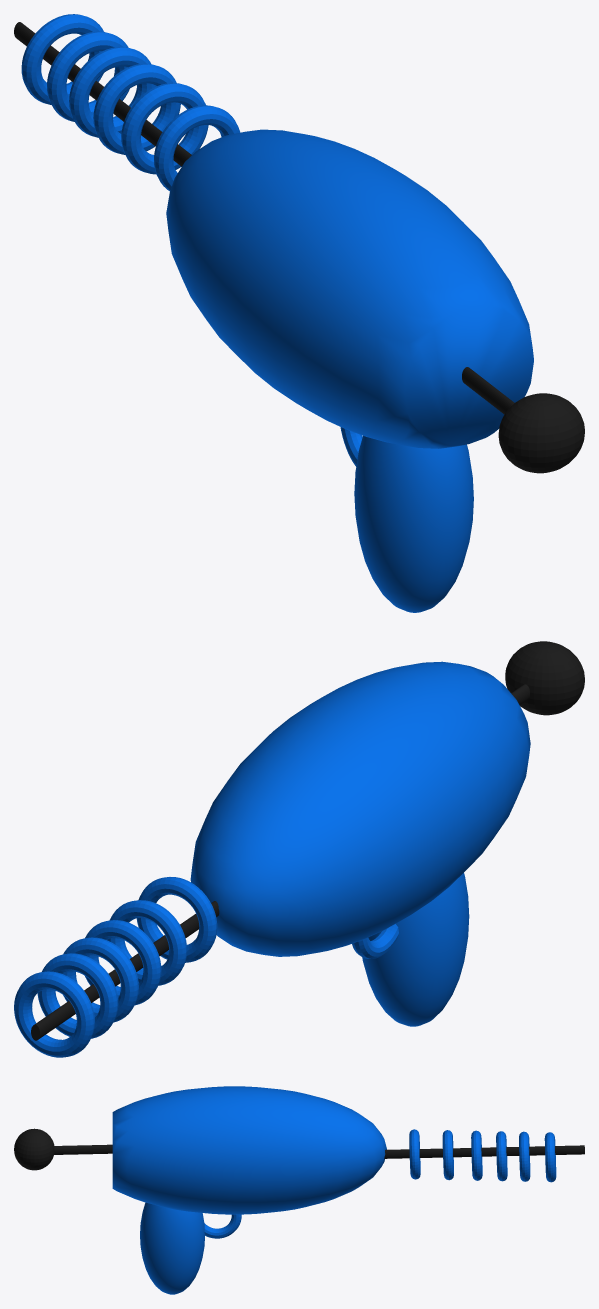
Rendered from blaster 1.fbx.
The picture shows the model from 3 angles, top to bottom: view 1: azimuth 30°, elevation 25°; view 2: azimuth 150°, elevation 25°; view 3: azimuth 270°, elevation 25°; orthographic projection. The views are drawn at different scales.
Parts seen in each view (by area): view 1: Sphere.001, Sphere, Sphere.002, Torus.001, Torus.002, Torus.003, Torus.005, Torus, Torus.004, Cylinder.001, Cylinder; view 2: Sphere.001, Sphere, Sphere.002, Torus.005, Torus.004, Torus, Torus.001, Torus.002, Torus.003, Cylinder.001, Torus.006; view 3: Sphere.001, Sphere, Cylinder.001, Sphere.002, Cylinder, Torus.003, Torus.002, Torus, Torus.004, Torus.005, Torus.001, Torus.006.
Boxes of the visible parts, x1,y1,x2,y2 form: Sphere.001: (166, 129, 533, 448); Sphere: (354, 436, 473, 612); Sphere.002: (498, 393, 584, 473); Torus.001: (121, 83, 208, 174); Torus.002: (93, 63, 180, 154); Torus.003: (69, 47, 155, 137); Torus.005: (21, 14, 103, 104); Torus: (154, 105, 240, 191); Torus.004: (47, 31, 129, 121); Cylinder.001: (14, 22, 191, 166); Cylinder: (462, 367, 514, 414); Sphere.001: (190, 661, 530, 956); Sphere: (362, 873, 469, 1026); Sphere.002: (505, 641, 584, 715); Torus.005: (14, 971, 94, 1057); Torus.004: (37, 953, 118, 1038); Torus: (136, 877, 217, 962); Torus.001: (107, 900, 187, 985); Torus.002: (85, 920, 161, 1005); Torus.003: (63, 937, 138, 1022); Cylinder.001: (31, 901, 219, 1040); Torus.006: (352, 924, 398, 958); Sphere.001: (112, 1086, 386, 1214); Sphere: (140, 1202, 204, 1294); Cylinder.001: (384, 1145, 584, 1158); Sphere.002: (14, 1128, 54, 1170); Cylinder: (54, 1144, 112, 1154); Torus.003: (496, 1131, 507, 1181); Torus.002: (471, 1130, 482, 1180); Torus: (409, 1129, 420, 1179); Torus.004: (519, 1131, 530, 1181); Torus.005: (544, 1132, 556, 1182); Torus.001: (442, 1130, 453, 1180); Torus.006: (204, 1214, 241, 1238).
Bounding box in the file's own units: 200 × 344 × 889.
